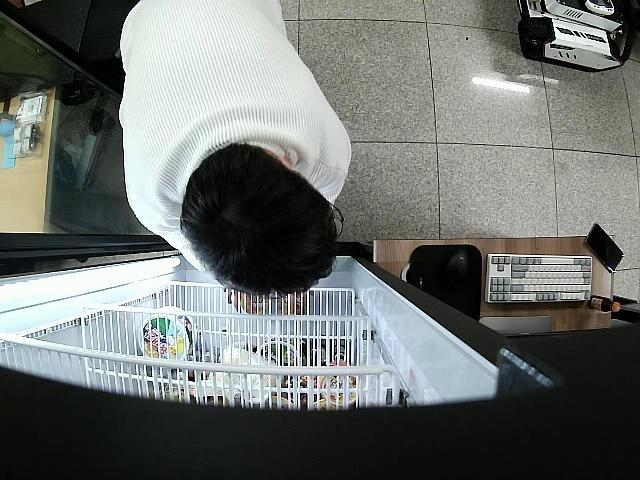03_chapagetti_L: (244, 285, 270, 314), (282, 292, 308, 314)
